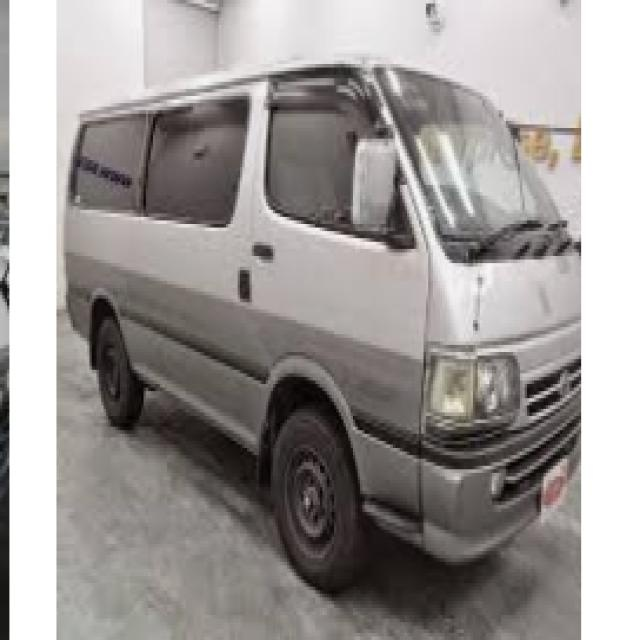Van: (61, 57, 584, 594)
